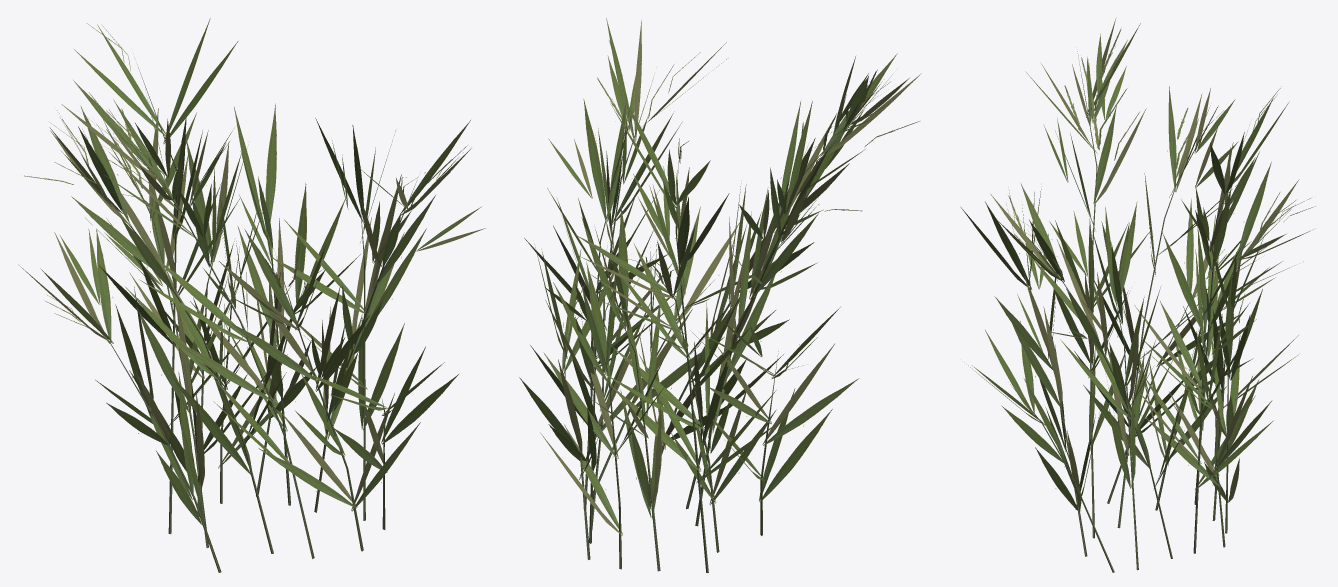
Rendered from arden_forest_wheat_02.fbx.
3 renders of one model, left to right at view 1: azimuth 30°, elevation 25°; view 2: azimuth 150°, elevation 25°; view 3: azimuth 270°, elevation 25°, orthographic. The views are drawn at different scales.
Visible parts, largest first — view 1: arden_forest_wheat_02; view 2: arden_forest_wheat_02; view 3: arden_forest_wheat_02.
Part boxes in pixels (x1,y1,x2,y2): arden_forest_wheat_02: [18, 18, 485, 572]; arden_forest_wheat_02: [519, 18, 921, 572]; arden_forest_wheat_02: [961, 17, 1315, 572].
Size of the model in its own units: 1.25 by 1.19 by 1.55.
